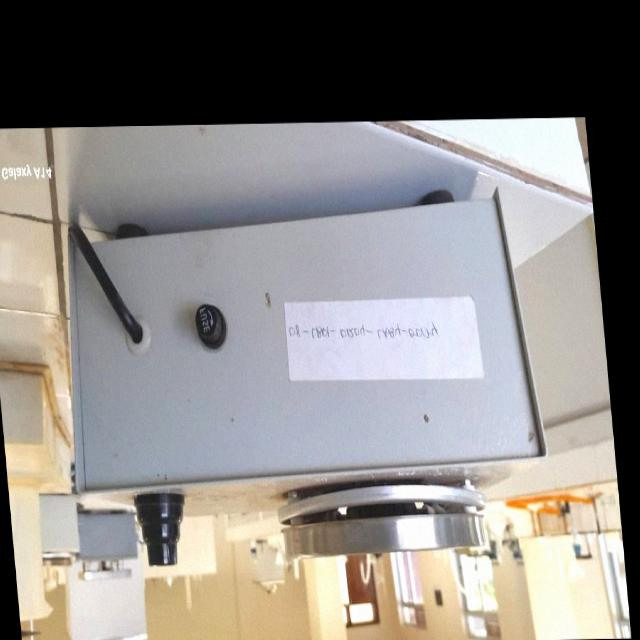Magnetic Stirrer: (51, 230, 559, 578)
